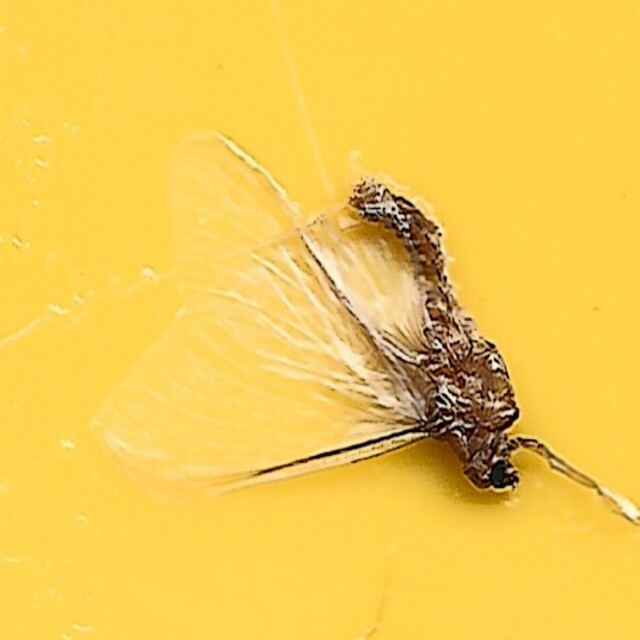Ephemeroptera: (107, 139, 533, 501)
